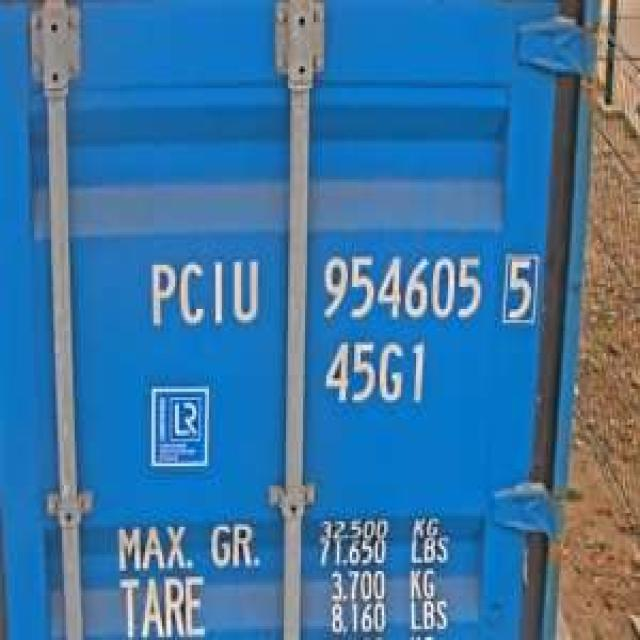dv: (499, 245, 542, 328)
owner: (141, 248, 262, 331)
serial: (314, 242, 486, 326)
size: (318, 334, 433, 411)
